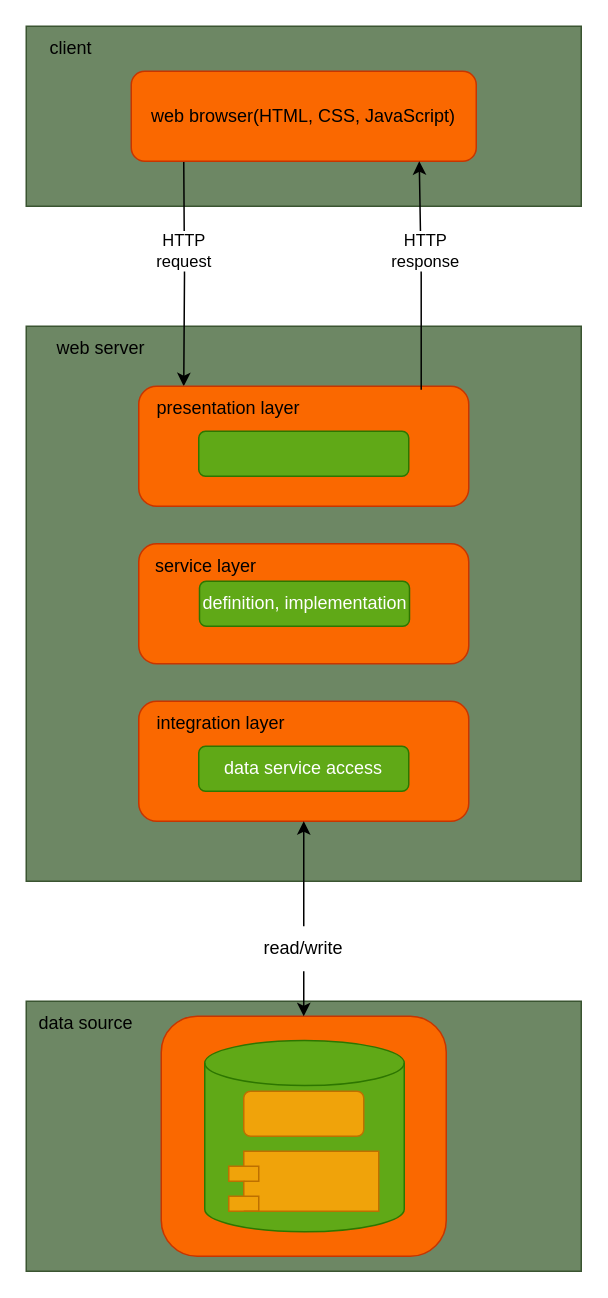
The diagram is 608 pixels wide and 1298 high, and some of its shapes have lost their labels. The centre of each missing label's shape, as x and y in pixels:
data base: point 303,1113
file system: point 303,1180
